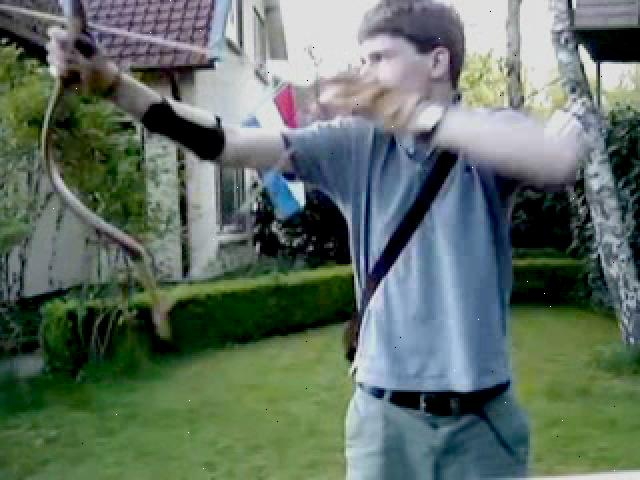P: (45, 5, 585, 474)
